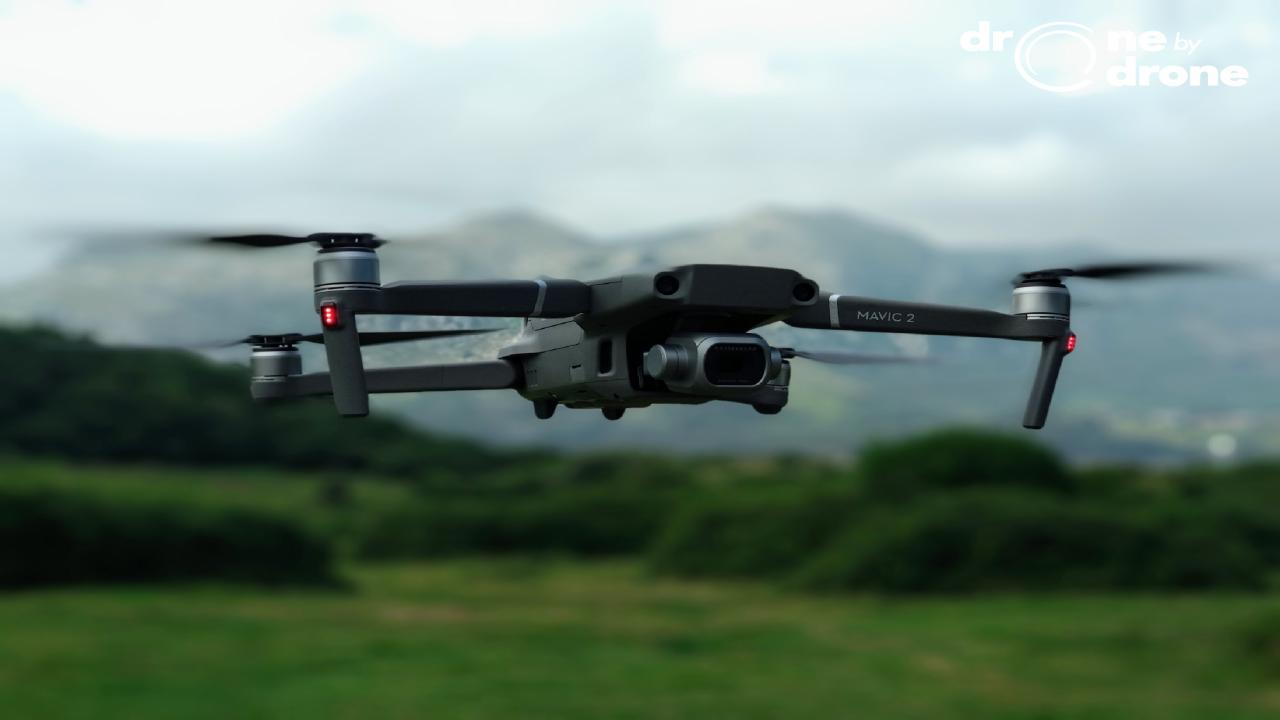Drone: (80, 220, 1280, 437)
